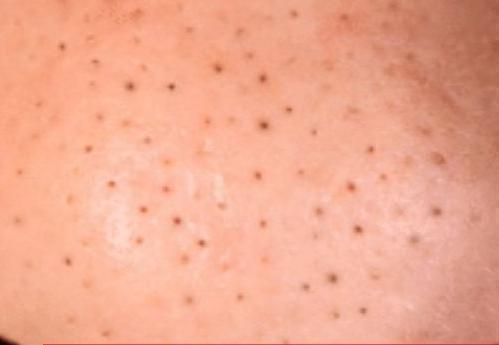blackhead: (42, 30, 156, 110), (128, 222, 239, 268), (128, 172, 199, 242), (336, 142, 400, 201), (69, 106, 123, 161), (289, 263, 353, 302), (152, 63, 194, 108), (336, 212, 383, 250), (222, 275, 267, 314), (246, 59, 285, 99), (198, 52, 239, 85), (245, 112, 283, 143), (243, 159, 277, 190), (247, 212, 281, 240), (50, 247, 81, 277), (303, 197, 330, 227)
